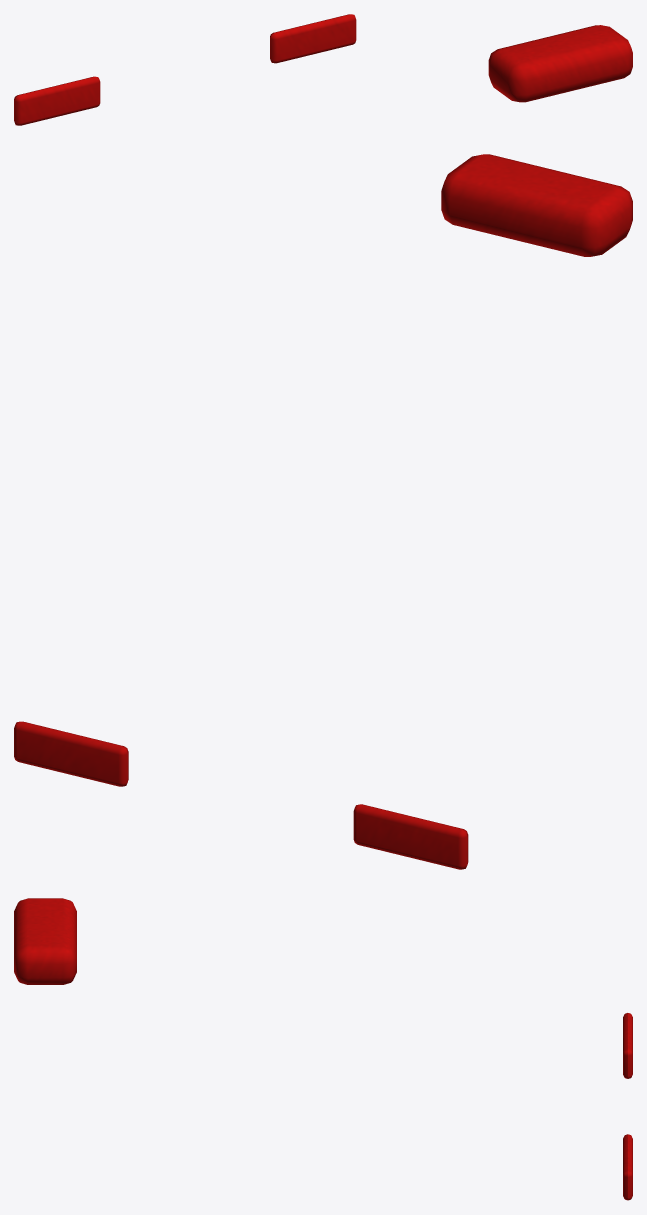
The picture shows the model from 3 angles, top to bottom: view 1: azimuth 30°, elevation 25°; view 2: azimuth 150°, elevation 25°; view 3: azimuth 270°, elevation 25°; orthographic projection. The views are drawn at different scales.
Bounding box in the file's own units: 1.52 × 1.03 × 2.45.
1 material, 1 textured.
